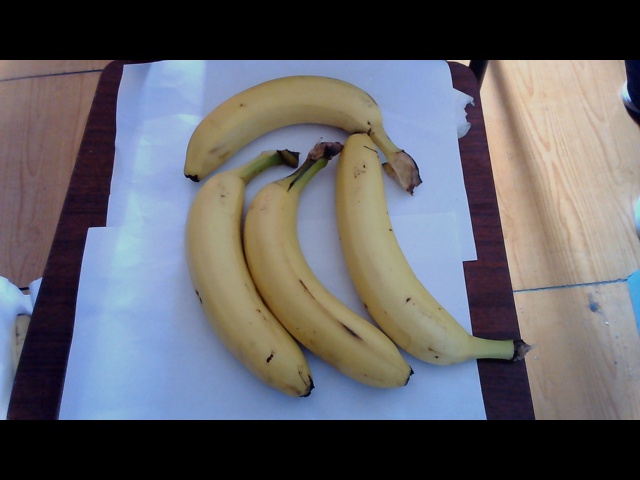banana: (178, 153, 457, 397), (162, 77, 427, 161)
